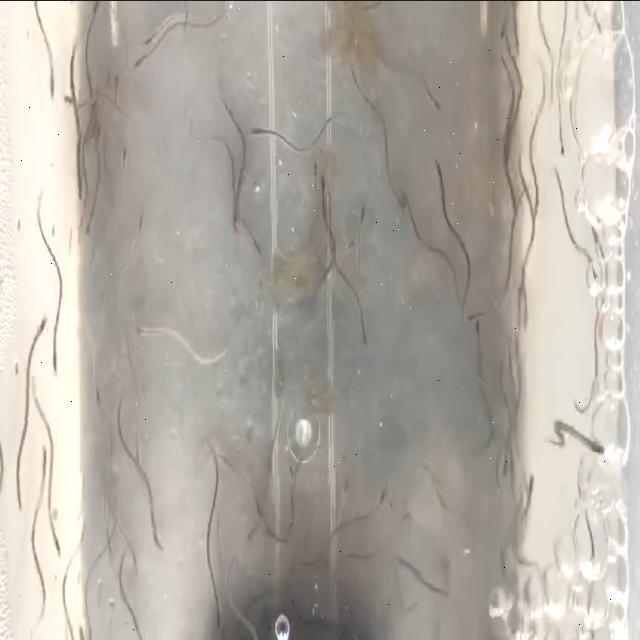active_glass_eel: (128, 550, 152, 602), (114, 136, 136, 183), (84, 0, 113, 34), (223, 204, 244, 247), (332, 456, 357, 490), (430, 76, 444, 136), (585, 431, 609, 466), (242, 109, 264, 147), (145, 524, 169, 558), (360, 318, 378, 362), (48, 526, 70, 559), (591, 218, 601, 286), (496, 455, 518, 483), (70, 170, 90, 199), (370, 482, 396, 504), (128, 56, 149, 82), (319, 178, 337, 207), (428, 572, 448, 598), (252, 231, 266, 267), (46, 360, 66, 384), (36, 444, 52, 474), (132, 206, 150, 232), (467, 312, 483, 341), (397, 190, 411, 223), (44, 66, 56, 102), (207, 608, 230, 626), (428, 156, 448, 176), (134, 313, 146, 345), (304, 158, 318, 184), (495, 16, 507, 46), (100, 538, 118, 557), (81, 215, 98, 235), (526, 472, 540, 496), (63, 85, 73, 117), (37, 316, 51, 336), (138, 28, 152, 48), (242, 520, 254, 542), (554, 134, 566, 154)
